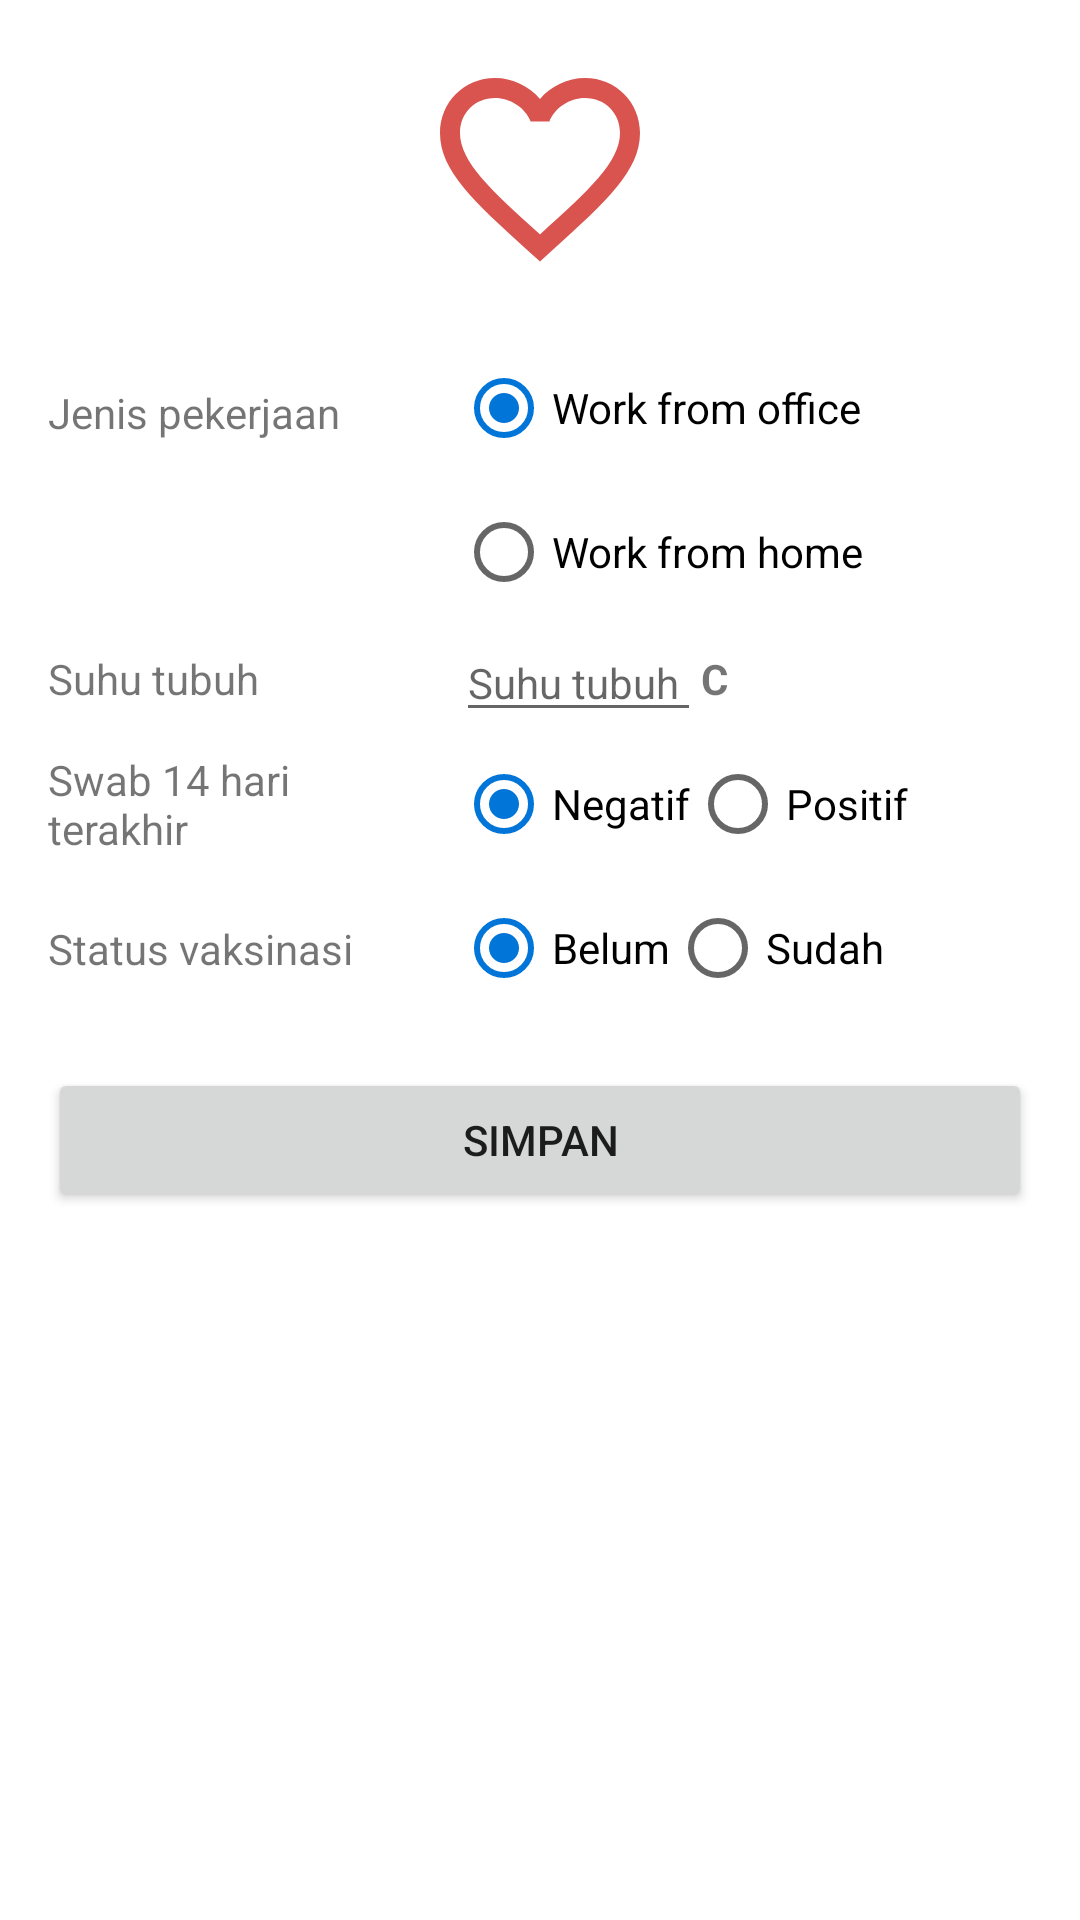

Icon bounding boxes for this 1080x1920 phone screenshot, format (x1, y1, x2, y2):
favorite danger: (440, 78, 640, 261)
